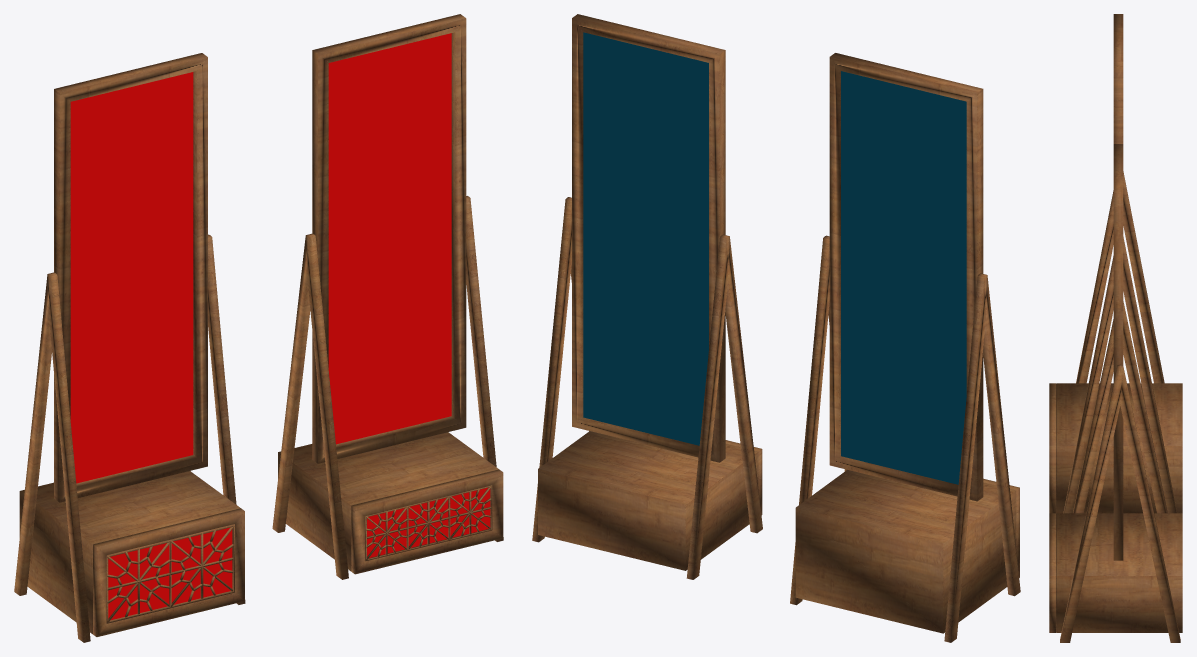
Rendered from miror tX.obj.
3 views of the same model, side by side, from view 1: azimuth 30°, elevation 25°; view 2: azimuth 150°, elevation 25°; view 3: azimuth 270°, elevation 25° (orthographic). The views are drawn at different scales.
Parts seen in each view (by area): view 1: Plane001, Plane004, Rectangle017, Rectangle002, Rectangle003, Rectangle018, Rectangle016, Rectangle022, Rectangle004, Rectangle014, Rectangle020, Layer_Layer_002 (+4 smaller); view 2: Plane003, Plane005, Rectangle003, Rectangle018, Rectangle002, Rectangle017, Rectangle016, Rectangle022, Rectangle015, Rectangle021; view 3: Rectangle018, Rectangle003, Rectangle021, Rectangle015, Rectangle022, Rectangle017, Rectangle016, Rectangle002, Rectangle014, Rectangle020.
Boxes of the visible parts, <box> form: Plane001: <box>70,72,193,483</box>; Plane004: <box>328,33,451,444</box>; Rectangle017: <box>312,14,466,463</box>; Rectangle002: <box>54,53,207,502</box>; Rectangle003: <box>19,471,240,634</box>; Rectangle018: <box>278,432,498,571</box>; Rectangle016: <box>14,272,90,642</box>; Rectangle022: <box>272,233,348,579</box>; Rectangle004: <box>108,527,232,619</box>; Rectangle014: <box>93,508,244,636</box>; Rectangle020: <box>351,469,503,574</box>; Layer_Layer_002: <box>106,524,234,623</box>; Plane003: <box>841,71,966,484</box>; Plane005: <box>583,32,708,445</box>; Rectangle003: <box>795,470,1015,633</box>; Rectangle018: <box>538,431,758,570</box>; Rectangle002: <box>829,53,983,501</box>; Rectangle017: <box>572,14,725,462</box>; Rectangle016: <box>944,273,1020,642</box>; Rectangle022: <box>686,234,762,579</box>; Rectangle015: <box>790,235,846,605</box>; Rectangle021: <box>532,197,589,542</box>; Rectangle018: <box>1056,513,1182,632</box>; Rectangle003: <box>1056,383,1182,513</box>; Rectangle021: <box>1060,364,1180,642</box>; Rectangle015: <box>1063,237,1176,513</box>; Rectangle022: <box>1073,301,1167,513</box>; Rectangle017: <box>1113,144,1123,560</box>; Rectangle016: <box>1076,171,1164,383</box>; Rectangle002: <box>1113,14,1123,143</box>; Rectangle014: <box>1049,383,1055,513</box>; Rectangle020: <box>1049,513,1055,632</box>.
Size of the model in its own units: 126 by 151 by 40.
